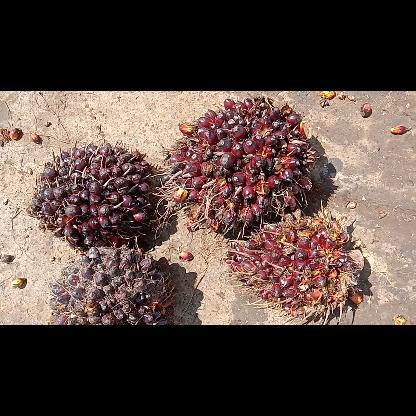Kurang masak: (152, 97, 320, 239), (223, 210, 363, 324), (29, 139, 155, 247), (49, 244, 176, 324)
